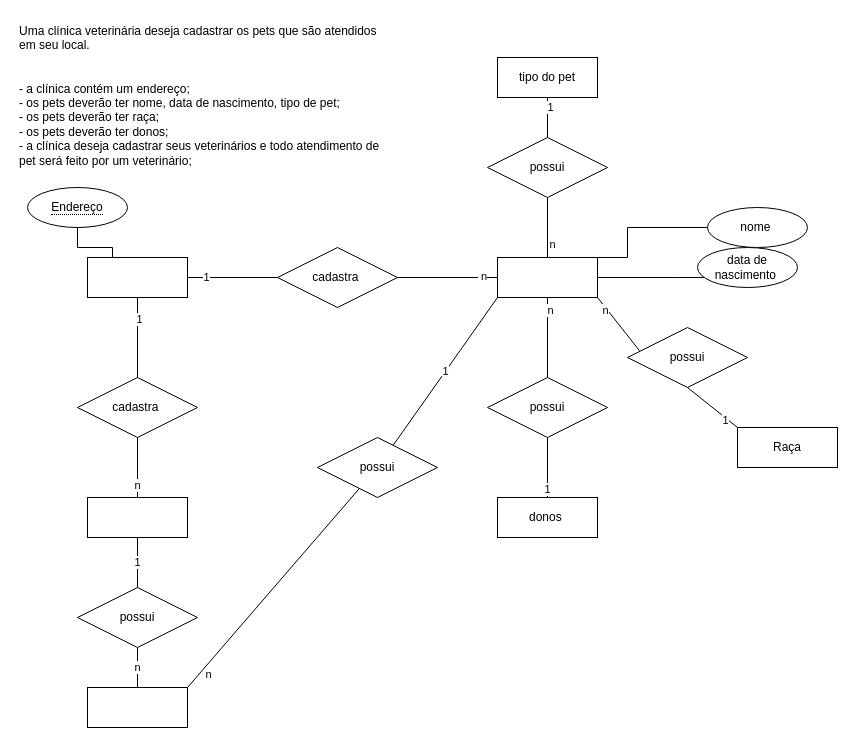
Image size: 855x745. Some labels were removed from this diagram. Here are the shapes that lost their labels. From the top down, the centre of each, then its label:
the point at 137,277: clinica
the point at 547,277: pets
the point at 137,517: veterinário
the point at 137,707: atendimento
